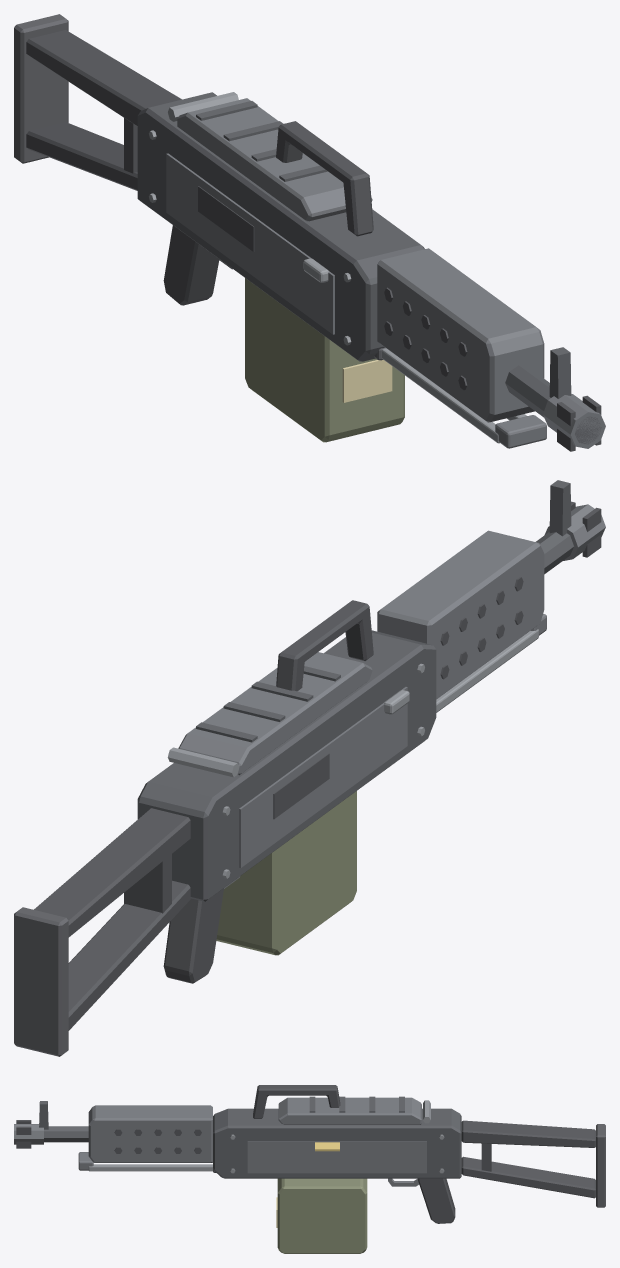
Rendered from weapon_anvil_lmg.fbx.
3 renders of one model, top to bottom at view 1: azimuth 30°, elevation 25°; view 2: azimuth 150°, elevation 25°; view 3: azimuth 270°, elevation 25°, orthographic. The views are drawn at different scales.
Visible parts, largest first — view 1: weapon_anvil_lmg; view 2: weapon_anvil_lmg; view 3: weapon_anvil_lmg.
Boxes of the visible parts, bbox=[...] form: weapon_anvil_lmg: bbox=[14, 14, 605, 451]; weapon_anvil_lmg: bbox=[14, 480, 605, 1056]; weapon_anvil_lmg: bbox=[14, 1085, 605, 1253].
Size of the model in its own units: 0.136 by 0.335 by 1.19.
